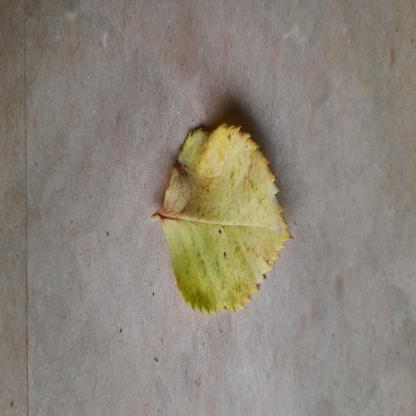black-spot: (162, 119, 294, 315)
